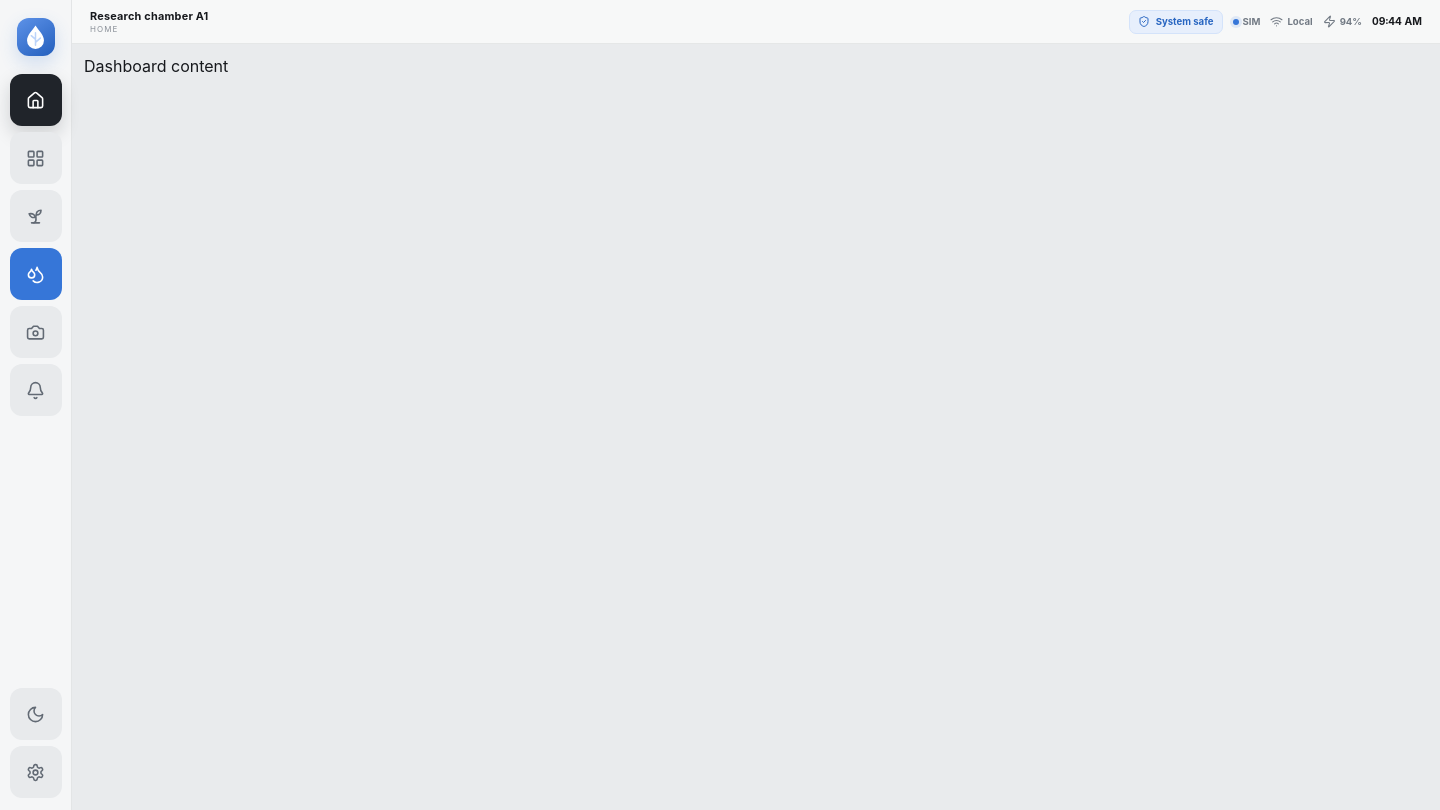
it: AeroOS production shell › opens the app launcher and navigates through existing workspaces
Click the button named "Open app launcher": (36, 158) [10,132,62,184]
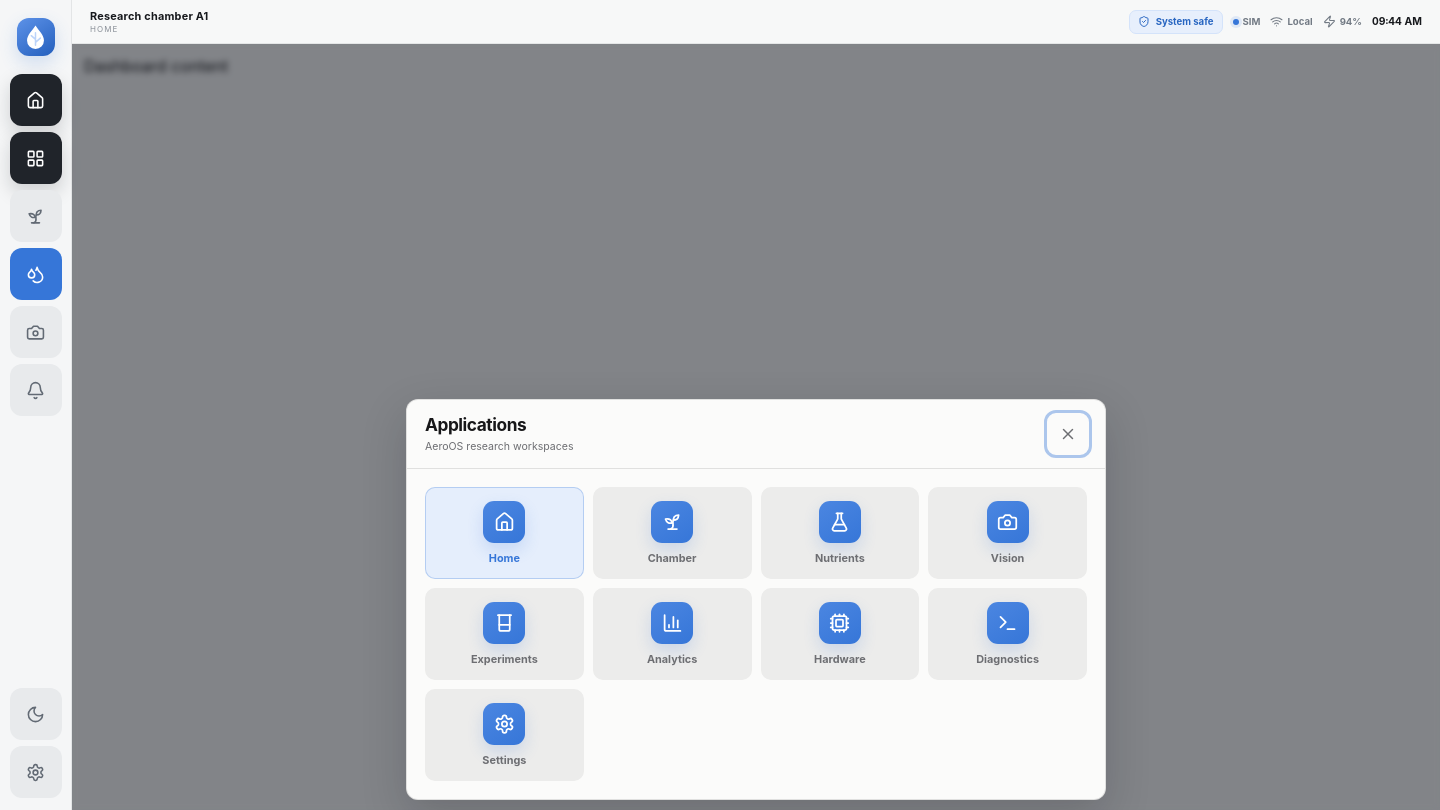
Click the button "Nutrients": (840, 533) [760,487,919,579]
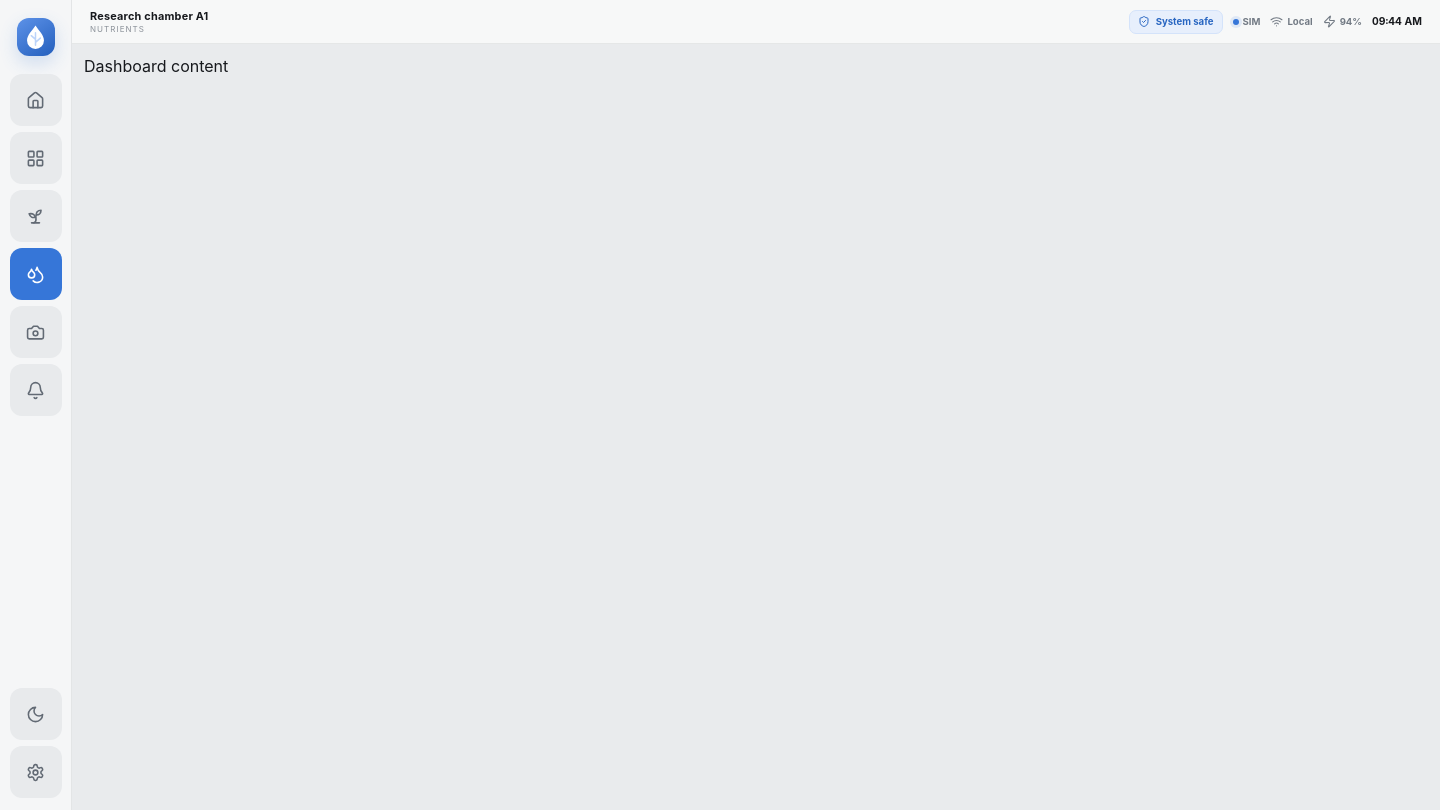
Expected: the heading "Applications" is gone
Expected: the text "Nutrients" is shown, [90,24,145,34]
